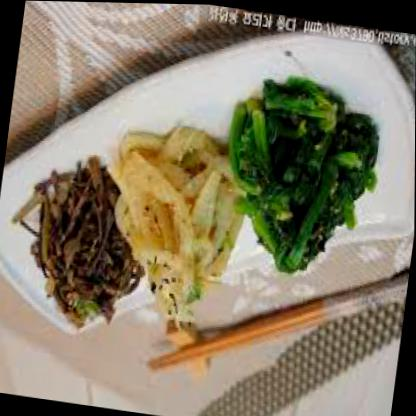bellflower greens: (117, 132, 241, 325)
seasoned bracken: (30, 176, 134, 328)
spinach greens: (227, 85, 372, 274)
